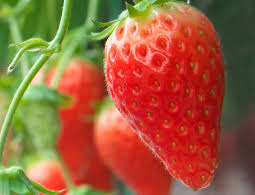ripe: (100, 5, 230, 191), (86, 93, 178, 192), (37, 47, 100, 187), (14, 152, 74, 192)
